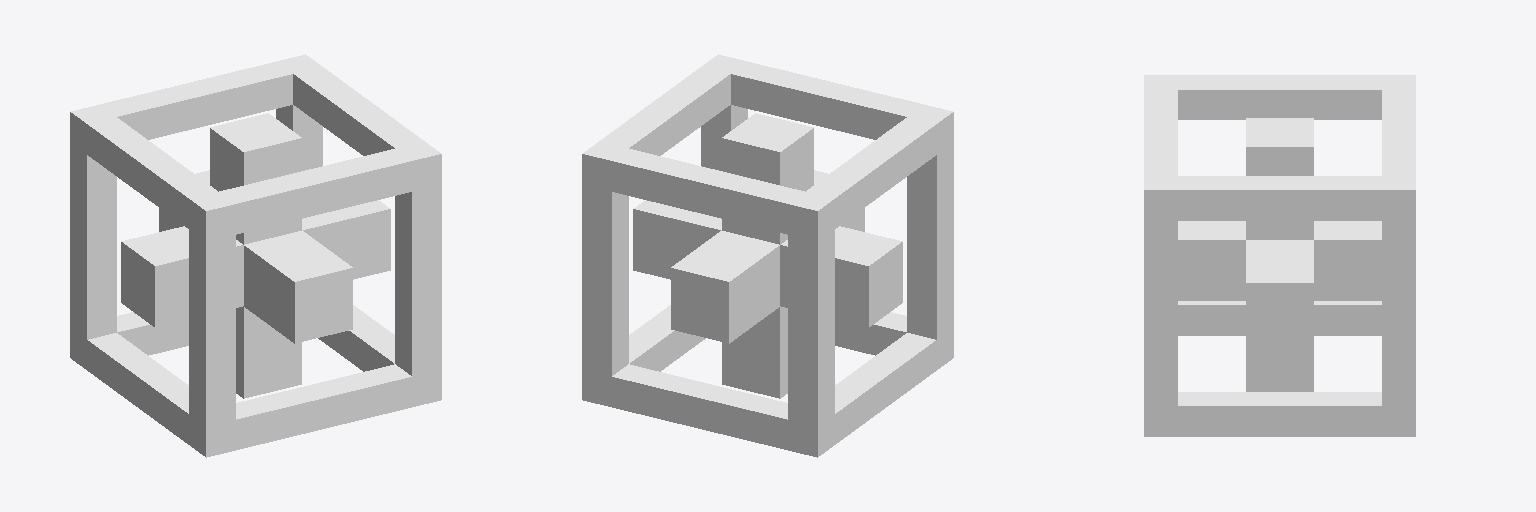
File: SelectionCube.obj
3 views of the same model, side by side, from view 1: azimuth 30°, elevation 25°; view 2: azimuth 150°, elevation 25°; view 3: azimuth 270°, elevation 25° (orthographic).
Parts seen in each view (by area): view 1: object 1; view 2: object 1; view 3: object 1.
Part boxes in pixels (bbox=[...]): object 1: bbox=[70, 54, 441, 457]; object 1: bbox=[582, 54, 953, 457]; object 1: bbox=[1144, 75, 1415, 436].
Bounding box in the file's own units: 0.8 × 0.8 × 0.8.